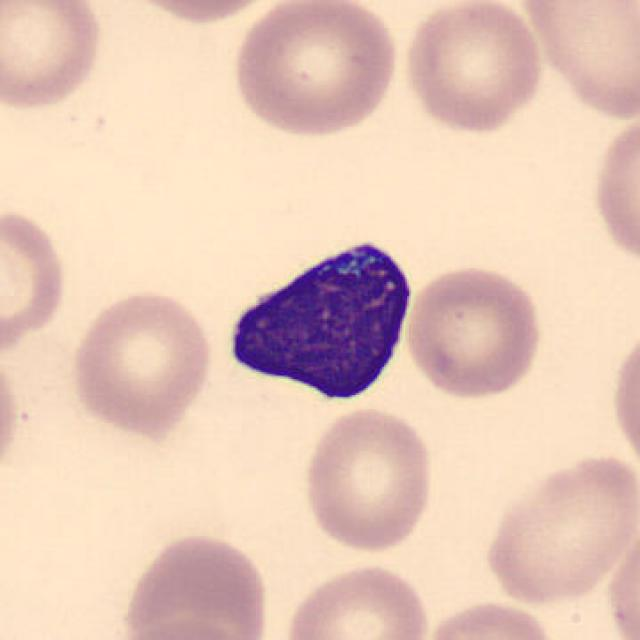Lymphocyte: (212, 224, 422, 412)
RBC: (478, 448, 636, 608), (228, 2, 402, 141), (66, 286, 217, 440), (299, 404, 437, 555), (398, 0, 548, 138), (402, 261, 546, 402), (115, 529, 274, 638), (514, 0, 640, 123), (277, 559, 434, 640), (0, 0, 107, 113), (0, 201, 71, 363), (588, 106, 638, 273), (418, 596, 564, 640), (606, 323, 640, 476), (106, 0, 290, 28), (602, 523, 640, 640), (0, 335, 25, 488), (110, 615, 256, 640)
